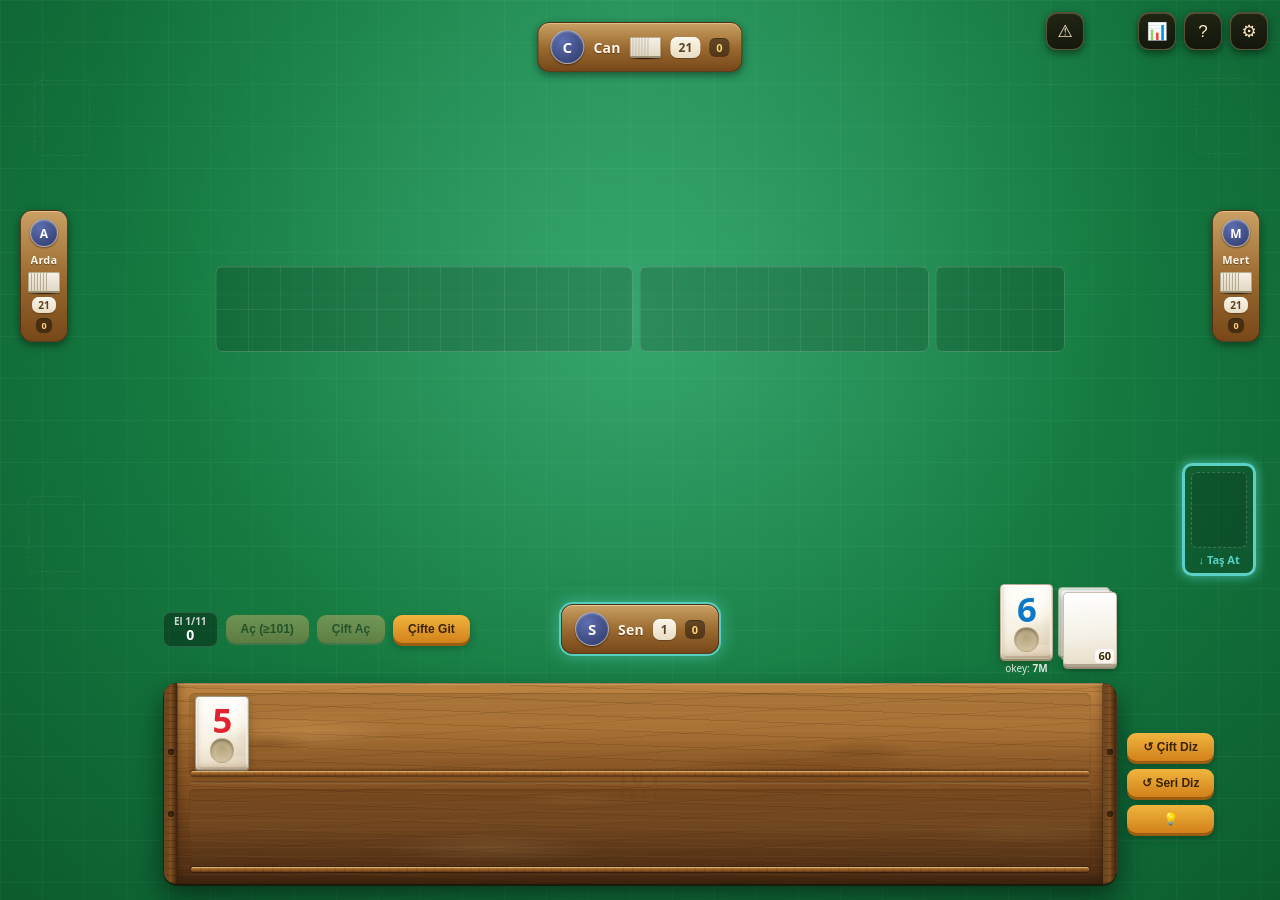
rejection toast (P0-1) › maps illegal-move to its message
What coordinates should you click on to do the following:
click the button "Çifte Git"
I would click on:
 (431, 629)
Its box is [393,615,470,643].
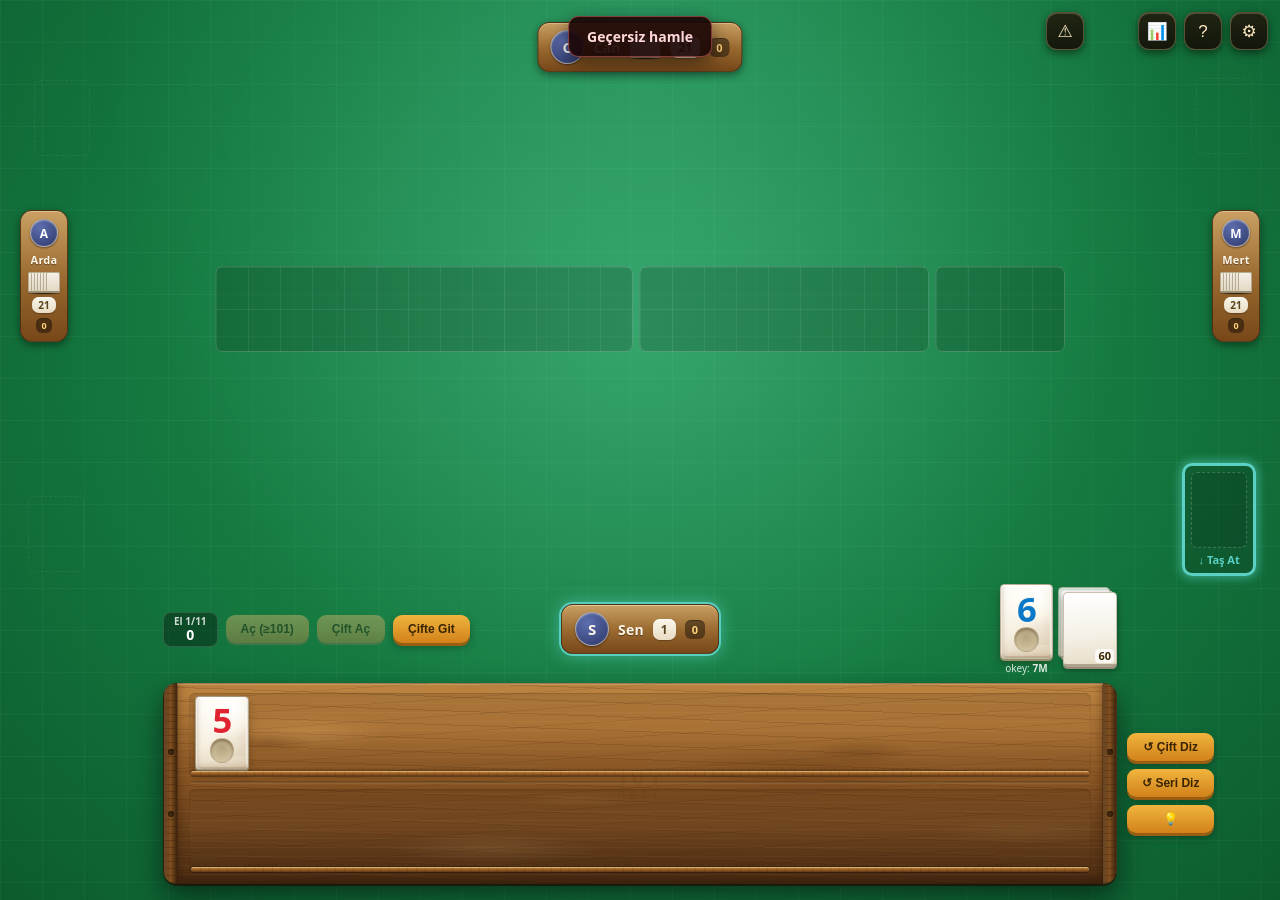
expect the message with test id "reject-toast" reads "Geçersiz hamle": met, box [587,27,693,46]
